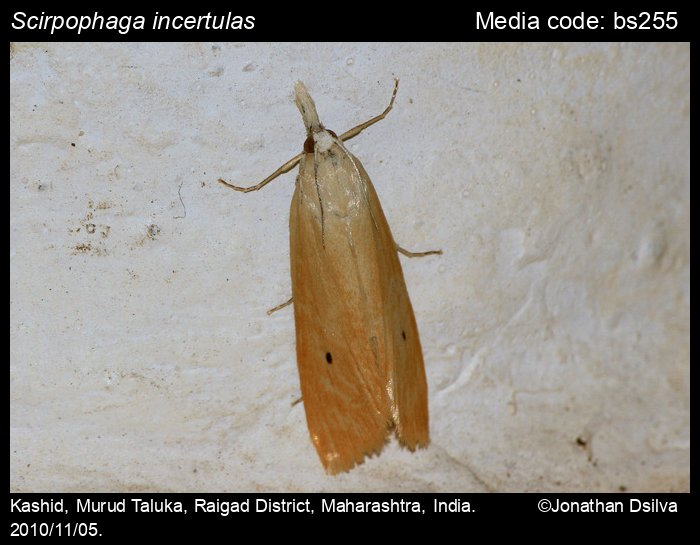Crambidae: (218, 62, 438, 477)
